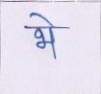e_matra: (30, 12, 56, 25)
